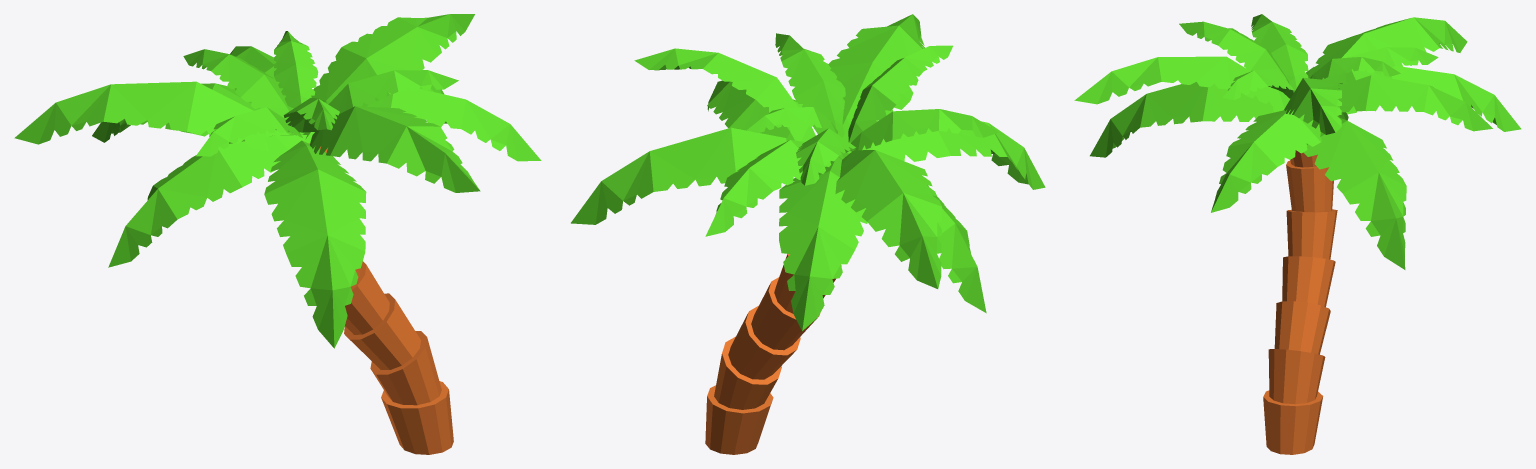
File: Trees.fbx
3 views of the same model, side by side, from view 1: azimuth 30°, elevation 25°; view 2: azimuth 150°, elevation 25°; view 3: azimuth 270°, elevation 25° (orthographic). The views are drawn at different scales.
Visible parts, largest first — view 1: Foglia.261, palma tronco.017; view 2: Foglia.261, palma tronco.017; view 3: Foglia.261, palma tronco.017.
Part boxes in pixels (x1=…): Foglia.261: x1=14, y1=14, x2=541, y2=348; palma tronco.017: x1=309, y1=143, x2=453, y2=454; Foglia.261: x1=571, y1=14, x2=1045, y2=331; palma tronco.017: x1=705, y1=254, x2=841, y2=454; Foglia.261: x1=1074, y1=14, x2=1521, y2=269; palma tronco.017: x1=1263, y1=150, x2=1337, y2=454.
Size of the model in its own units: 363 by 344 by 389.
